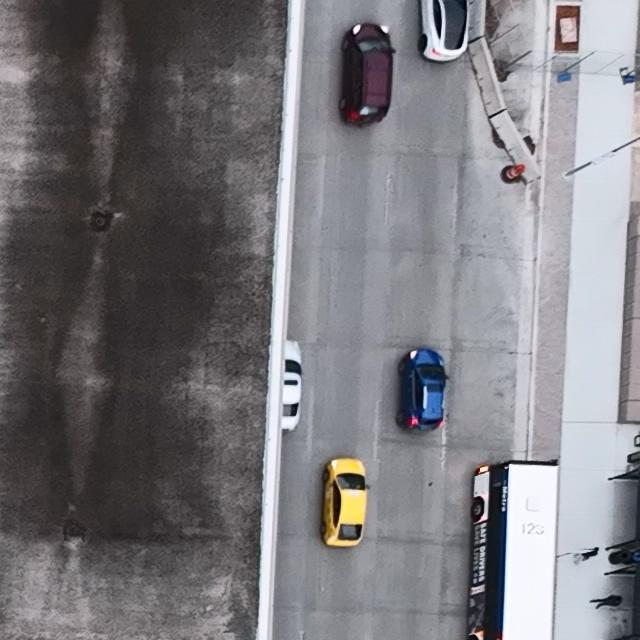car: (466, 460, 558, 640), (338, 23, 396, 127), (394, 347, 450, 433), (320, 457, 370, 548), (419, 0, 471, 62), (281, 340, 304, 433)
